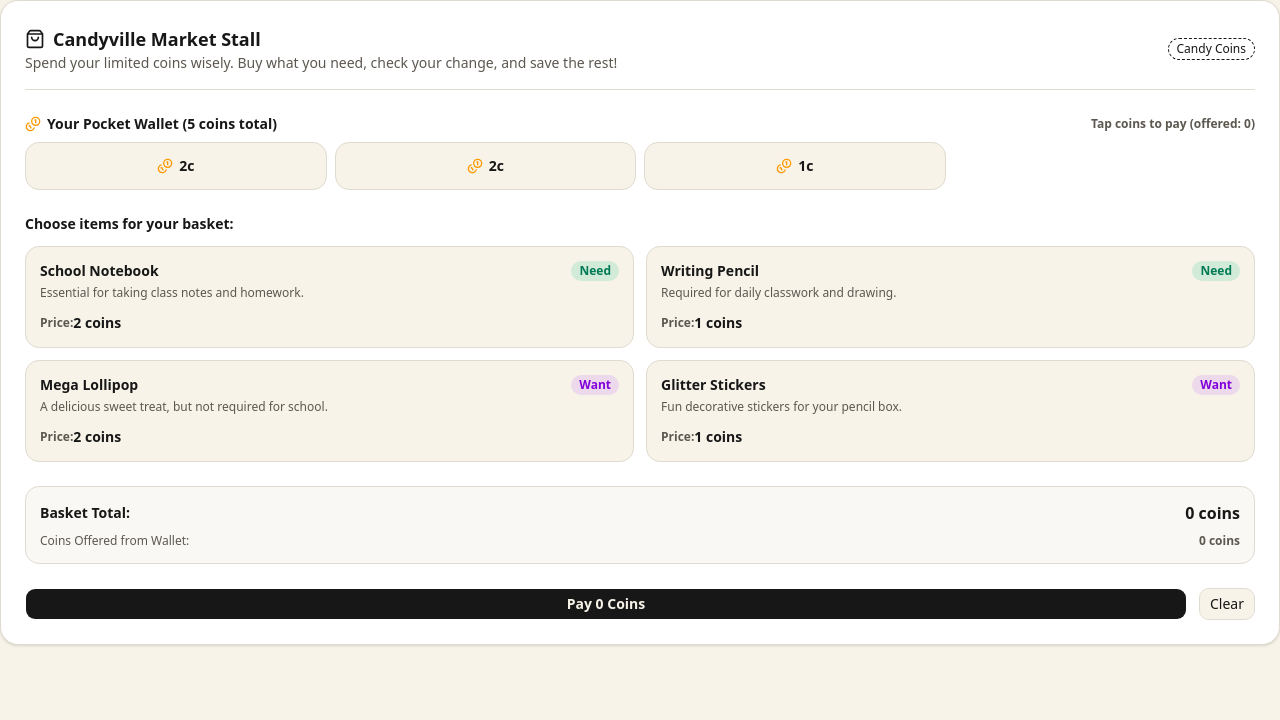
Test: CoinShopSimulation › shows an error when attempting to pay with an empty basket
Click the button with test id "coin-shop-pay-btn" at (606, 604), box [25,588,1187,620]
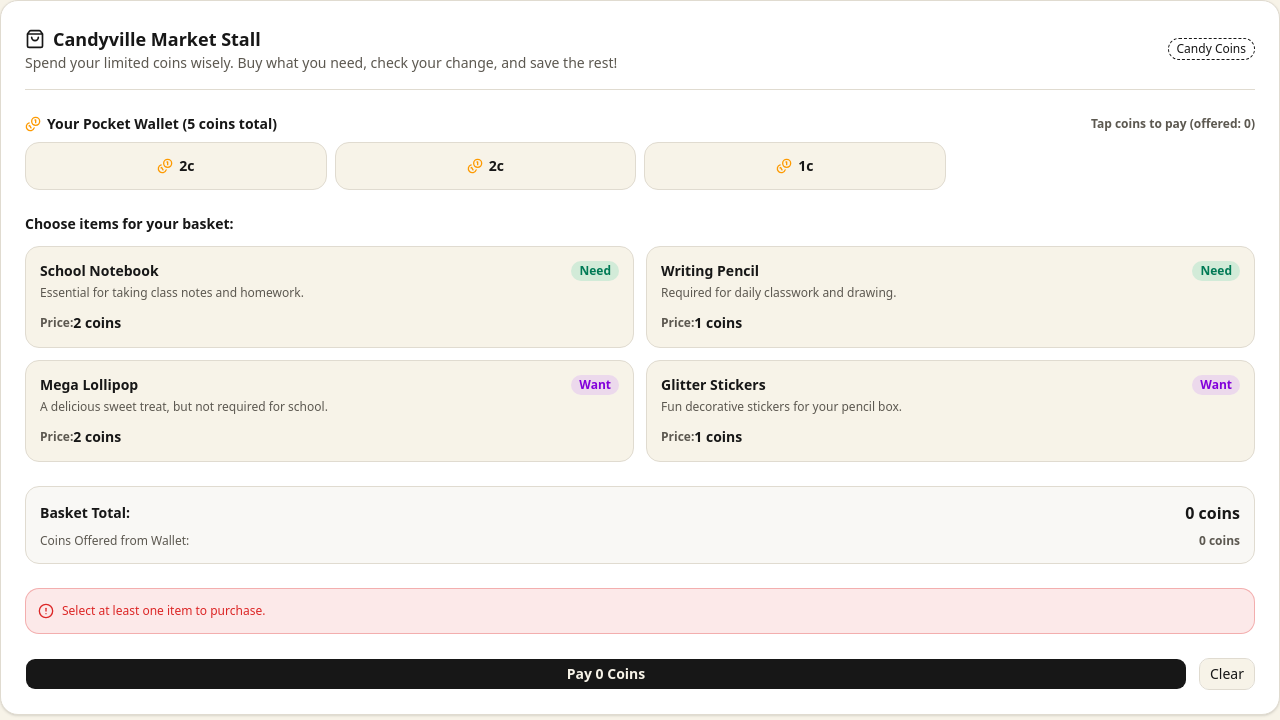
Result: the message with test id "coin-shop-error" shows "Select at least one item to purchase" at [62,602,265,619]
